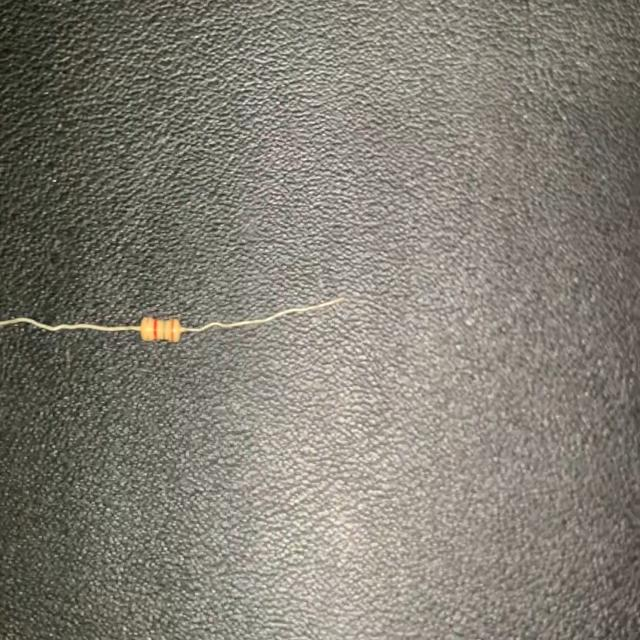resistor: (0, 289, 349, 351)
